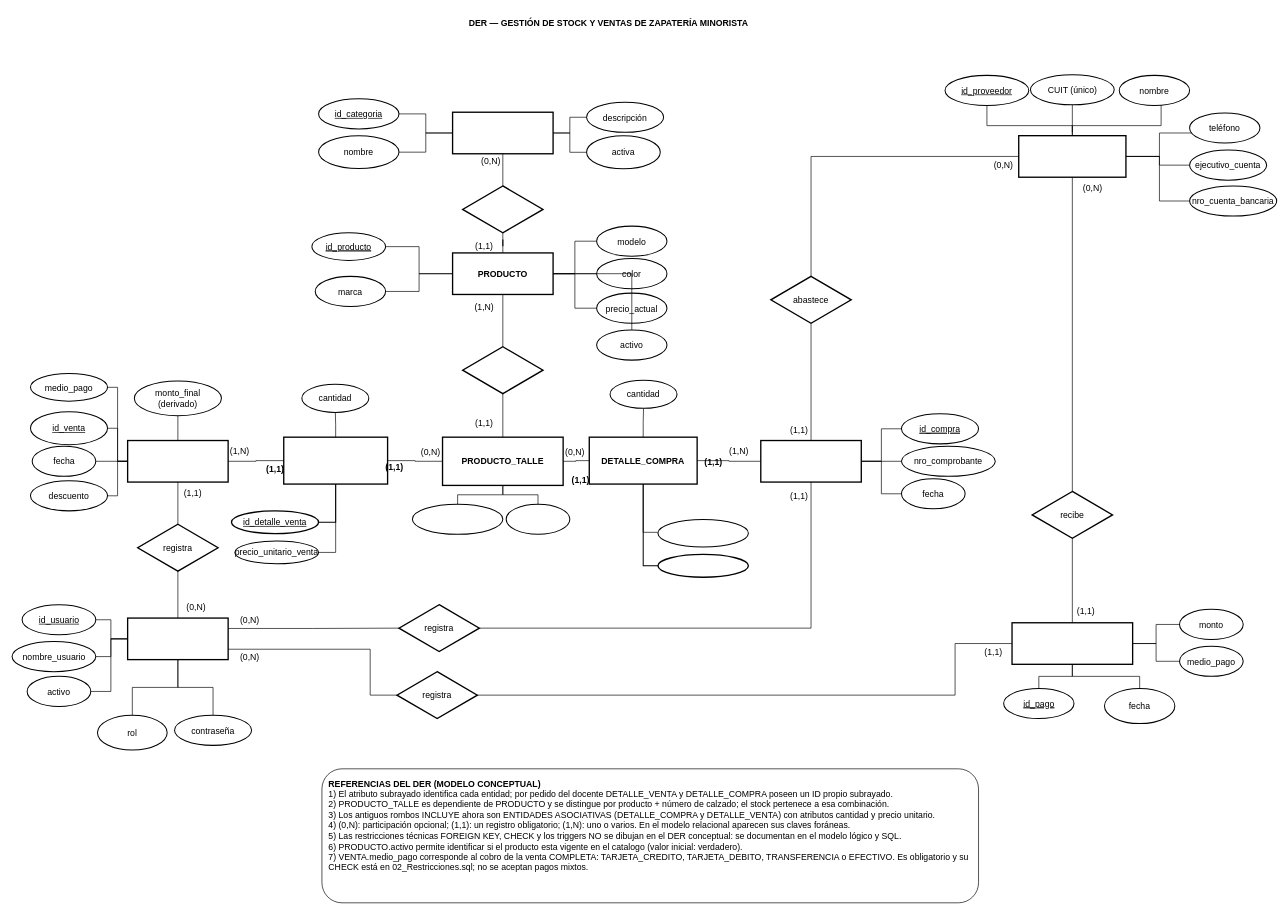
This 1288x915 diagram has some shape labels left out. The box of each missing label's shape, as (x1, y1, x2, y2) in pixels:
CATEGORÍA: (452, 111, 553, 154)
COMPRA: (760, 440, 862, 482)
DETALLE_VENTA: (283, 436, 388, 484)
id_detalle_compra: (657, 553, 749, 578)
numero_calzado: (412, 503, 503, 535)
PAGO_PROVEEDOR: (1011, 622, 1133, 665)
precio_unitario_compra: (657, 519, 749, 547)
PROVEEDOR: (1018, 135, 1126, 178)
stock: (505, 503, 570, 535)
tiene: (462, 185, 543, 233)
tiene talle: (462, 346, 543, 394)
USUARIO: (127, 617, 228, 660)
VENTA: (127, 440, 228, 482)
